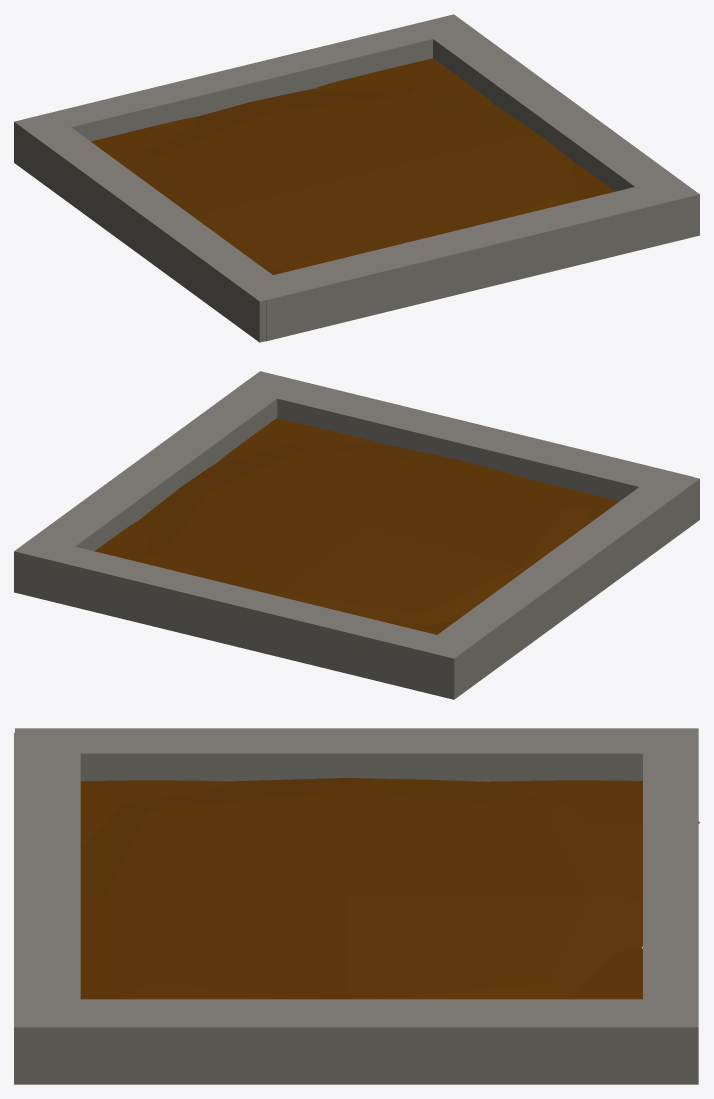
File: Dirt.fbx
3 renders of one model, top to bottom at view 1: azimuth 30°, elevation 25°; view 2: azimuth 150°, elevation 25°; view 3: azimuth 270°, elevation 25°, orthographic. The views are drawn at different scales.
Visible parts, largest first — view 1: Cube, Cube.001, Cube.004, Cube.002, Cube.005; view 2: Cube, Cube.001, Cube.005, Cube.004, Cube.003; view 3: Cube, Cube.001, Cube.002, Cube.003, Cube.004, Cube.005.
Part boxes in pixels (x1=…): Cube: x1=14, y1=14, x2=699, y2=342; Cube.001: x1=131, y1=87, x2=576, y2=271; Cube.004: x1=317, y1=58, x2=493, y2=105; Cube.002: x1=91, y1=117, x2=197, y2=173; Cube.005: x1=570, y1=164, x2=614, y2=200; Cube: x1=14, y1=371, x2=699, y2=699; Cube.001: x1=137, y1=439, x2=589, y2=626; Cube.005: x1=218, y1=418, x2=383, y2=461; Cube.004: x1=95, y1=522, x2=164, y2=568; Cube.003: x1=538, y1=481, x2=619, y2=529; Cube: x1=14, y1=728, x2=698, y2=1084; Cube.001: x1=80, y1=778, x2=642, y2=999; Cube.002: x1=484, y1=780, x2=699, y2=866; Cube.003: x1=80, y1=780, x2=228, y2=848; Cube.004: x1=558, y1=947, x2=642, y2=999; Cube.005: x1=80, y1=954, x2=132, y2=999.
Size of the model in its own units: 206 by 18.45 by 200.
